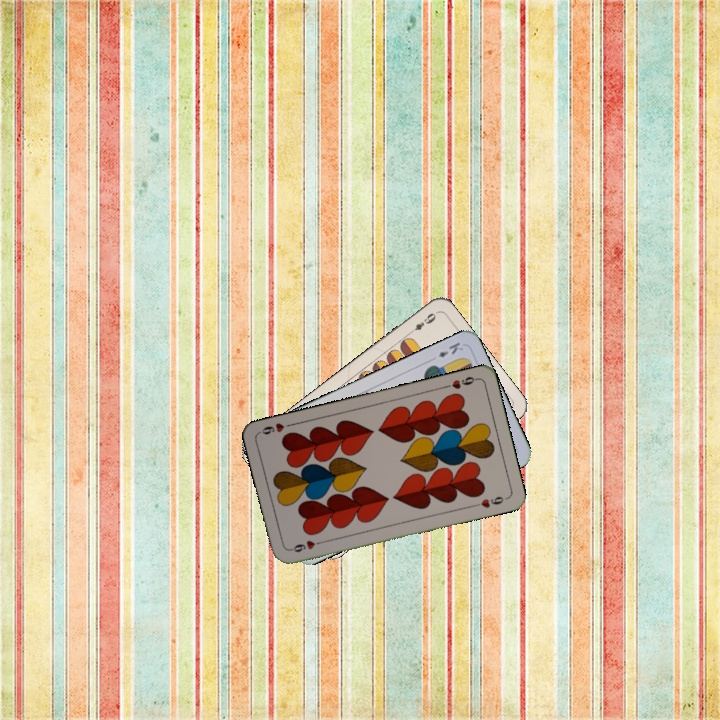E9: (405, 308, 439, 337)
EK: (434, 338, 466, 360)
H9: (440, 372, 480, 392), (286, 536, 326, 555)
